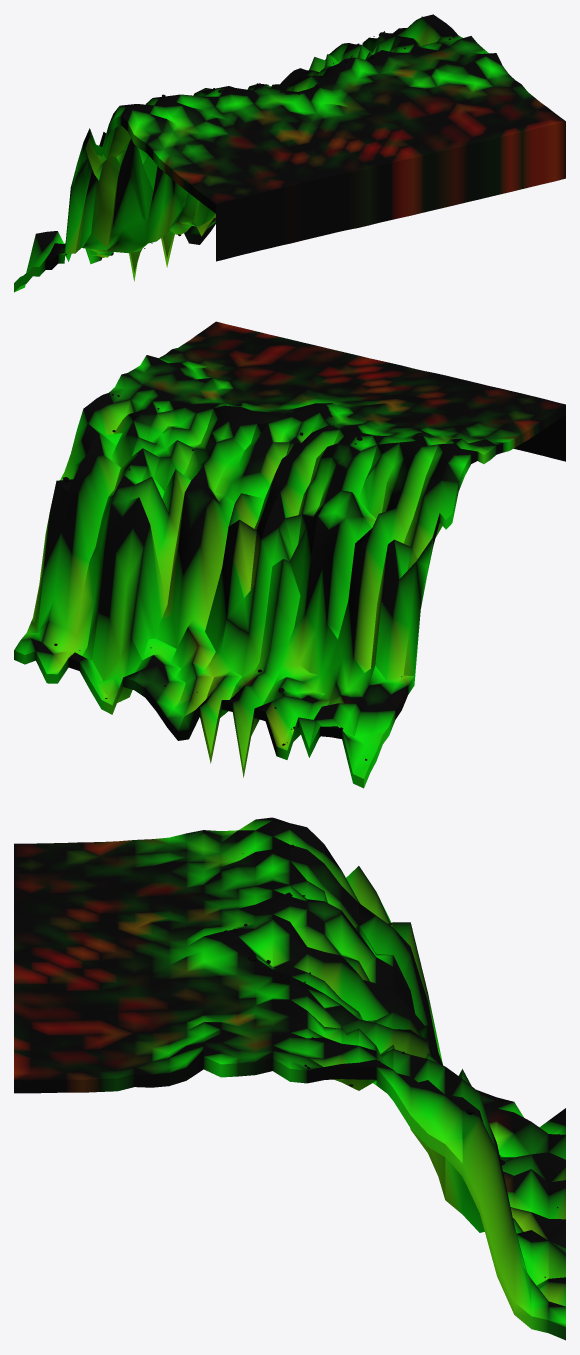
The model's file is Terrain_07_03.fbx.
The picture shows the model from 3 angles, top to bottom: view 1: azimuth 30°, elevation 25°; view 2: azimuth 150°, elevation 25°; view 3: azimuth 270°, elevation 25°; orthographic projection. The views are drawn at different scales.
Visible parts, largest first — view 1: Terrain_07_03_LOD0; view 2: Terrain_07_03_LOD0; view 3: Terrain_07_03_LOD0.
Part boxes in pixels (x1,y1,x2,y2): Terrain_07_03_LOD0: (14,14,565,292); Terrain_07_03_LOD0: (14,321,565,788); Terrain_07_03_LOD0: (14,817,565,1340).
Size of what is drawn, in the model's own units: 384 by 292 by 384.
